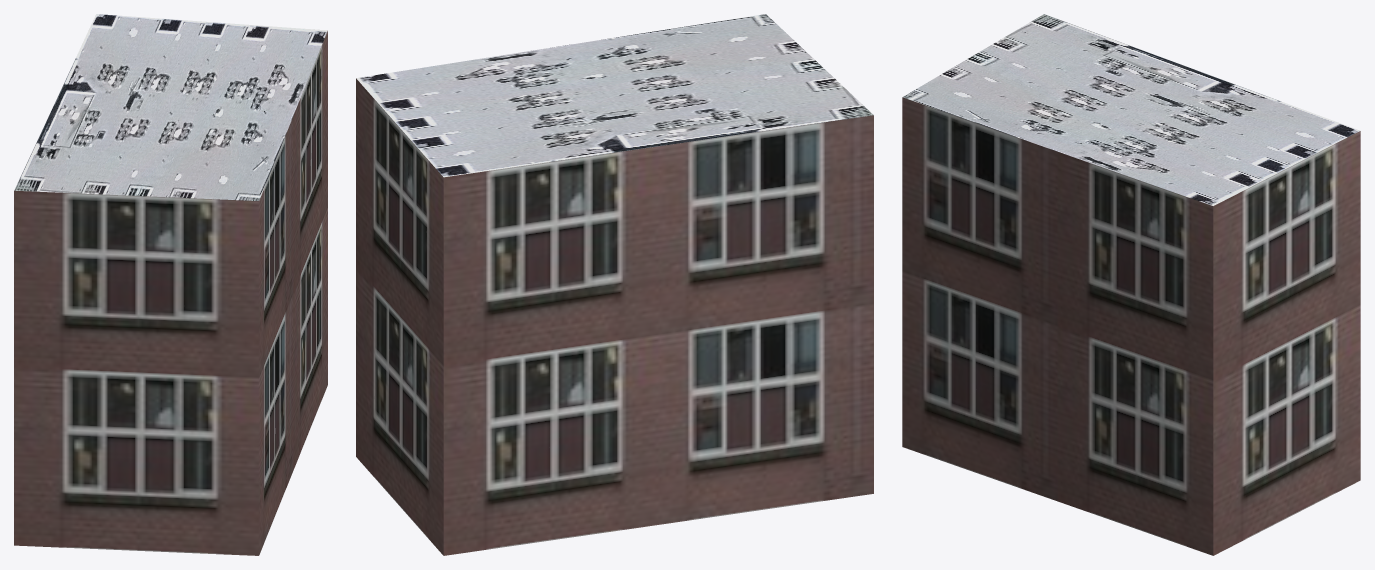
File: ResTex__930.fbx
The picture shows the model from 3 angles, left to right: view 1: azimuth 30°, elevation 25°; view 2: azimuth 150°, elevation 25°; view 3: azimuth 270°, elevation 25°; orthographic projection. The views are drawn at different scales.
Visible parts, largest first — view 1: CityEngineMaterial_12_m, CityEngineMaterial_m; view 2: CityEngineMaterial_12_m, CityEngineMaterial_m; view 3: CityEngineMaterial_12_m, CityEngineMaterial_m.
Part boxes in pixels (bbox=[...]): CityEngineMaterial_12_m: bbox=[14, 31, 327, 555]; CityEngineMaterial_m: bbox=[14, 14, 327, 200]; CityEngineMaterial_12_m: bbox=[356, 78, 873, 555]; CityEngineMaterial_m: bbox=[356, 14, 873, 177]; CityEngineMaterial_12_m: bbox=[902, 97, 1360, 555]; CityEngineMaterial_m: bbox=[903, 14, 1360, 205].
Bounding box in the file's own units: 7.07 × 6 × 7.12.
Materials: 2 (2 with a texture image).
